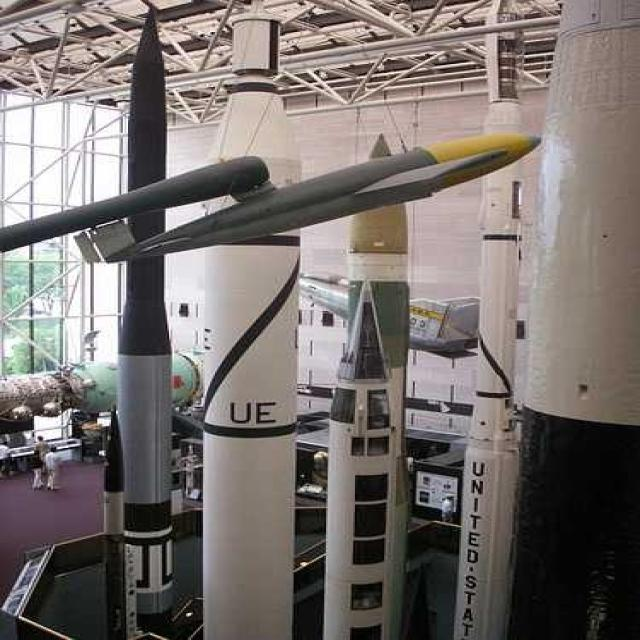missile: (195, 5, 300, 640), (111, 7, 185, 623), (468, 0, 524, 640), (343, 129, 411, 640), (325, 275, 401, 640)
